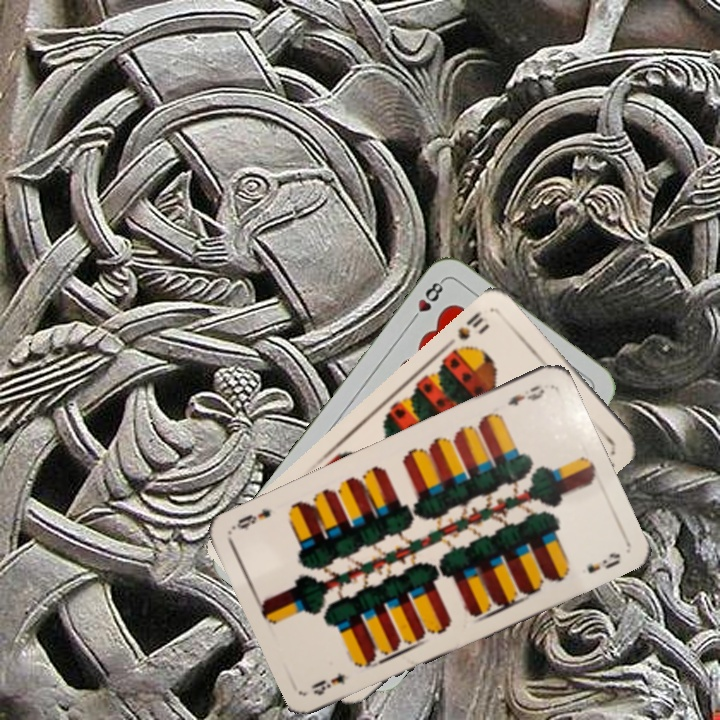E9: (307, 669, 348, 698), (503, 381, 547, 408)
H8: (406, 276, 447, 326)
S10: (442, 308, 487, 356)
